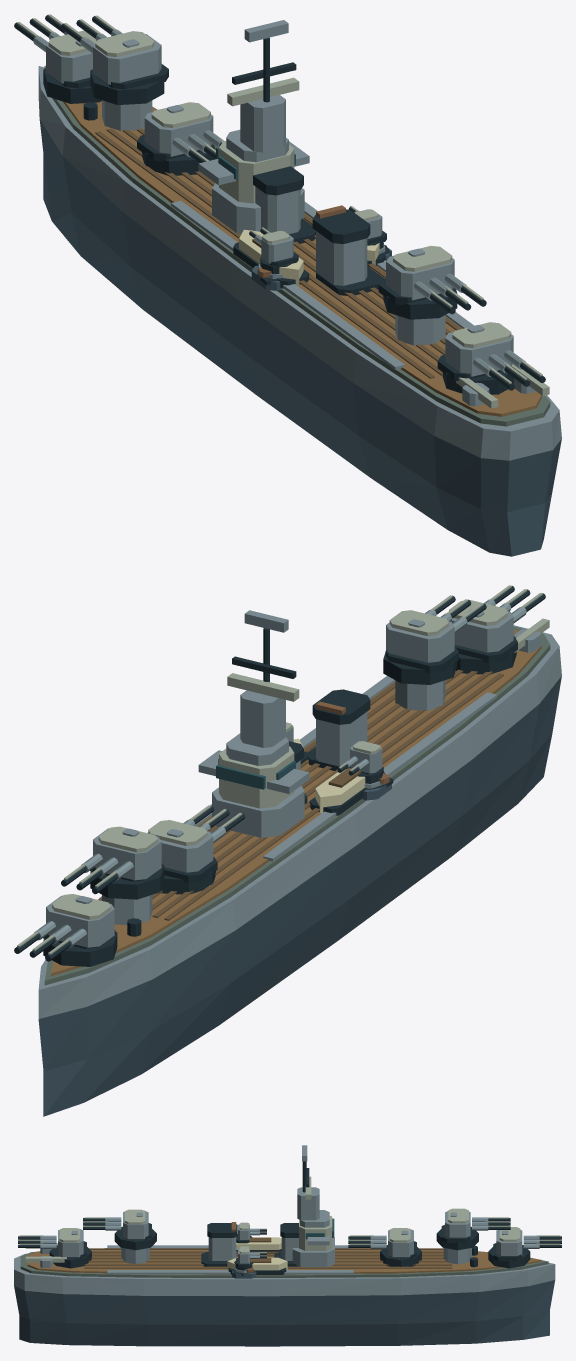
Rendered from historic-brooklyn.glb.
3 renders of one model, top to bottom at view 1: azimuth 30°, elevation 25°; view 2: azimuth 150°, elevation 25°; view 3: azimuth 270°, elevation 25°, orthographic. The views are drawn at different scales.
Visible parts, largest first — view 1: historic-brooklyn-historic-brooklyn-geometry, historic-brooklyn-part_bridge.010-geometry, historic-brooklyn-turret_main_1.006-geometry, historic-brooklyn-turret_main_3.003-geometry, historic-brooklyn-turret_main_4.001-geometry, historic-brooklyn-turret_main_2.006-geometry, historic-brooklyn-historic_funnel_1.003-geometry, historic-brooklyn-turret_main_0.007-geometry, historic-brooklyn-historic_funnel_0.011-geometry, historic-brooklyn-turret_aa_aa-port.012-geometry, historic-brooklyn-turret_aa_aa-starboard.010-geometry; view 2: historic-brooklyn-historic-brooklyn-geometry, historic-brooklyn-part_bridge.010-geometry, historic-brooklyn-turret_main_3.003-geometry, historic-brooklyn-turret_main_1.006-geometry, historic-brooklyn-turret_main_0.007-geometry, historic-brooklyn-turret_main_2.006-geometry, historic-brooklyn-turret_main_4.001-geometry, historic-brooklyn-historic_funnel_1.003-geometry, historic-brooklyn-turret_aa_aa-port.012-geometry; view 3: historic-brooklyn-historic-brooklyn-geometry, historic-brooklyn-part_bridge.010-geometry, historic-brooklyn-turret_main_1.006-geometry, historic-brooklyn-turret_main_3.003-geometry, historic-brooklyn-turret_main_0.007-geometry, historic-brooklyn-turret_main_2.006-geometry, historic-brooklyn-turret_main_4.001-geometry, historic-brooklyn-historic_funnel_1.003-geometry, historic-brooklyn-historic_funnel_0.011-geometry, historic-brooklyn-turret_aa_aa-starboard.010-geometry, historic-brooklyn-turret_aa_aa-port.012-geometry.
Part boxes in pixels (x1,y1,x2,y2): historic-brooklyn-historic-brooklyn-geometry: (38, 65, 561, 556); historic-brooklyn-part_bridge.010-geometry: (198, 20, 309, 233); historic-brooklyn-turret_main_1.006-geometry: (61, 15, 168, 104); historic-brooklyn-turret_main_3.003-geometry: (378, 246, 486, 319); historic-brooklyn-turret_main_4.001-geometry: (437, 322, 545, 394); historic-brooklyn-turret_main_2.006-geometry: (137, 102, 224, 175); historic-brooklyn-historic_funnel_1.003-geometry: (312, 205, 383, 295); historic-brooklyn-turret_main_0.007-geometry: (14, 14, 101, 103); historic-brooklyn-historic_funnel_0.011-geometry: (253, 166, 315, 243); historic-brooklyn-turret_aa_aa-port.012-geometry: (249, 227, 298, 274); historic-brooklyn-turret_aa_aa-starboard.010-geometry: (348, 206, 386, 248); historic-brooklyn-historic-brooklyn-geometry: (38, 618, 561, 1116); historic-brooklyn-part_bridge.010-geometry: (198, 610, 309, 837); historic-brooklyn-turret_main_3.003-geometry: (383, 595, 486, 684); historic-brooklyn-turret_main_1.006-geometry: (61, 826, 164, 899); historic-brooklyn-turret_main_0.007-geometry: (14, 894, 117, 966); historic-brooklyn-turret_main_2.006-geometry: (147, 805, 245, 894); historic-brooklyn-turret_main_4.001-geometry: (449, 585, 545, 674); historic-brooklyn-historic_funnel_1.003-geometry: (306, 689, 370, 770); historic-brooklyn-turret_aa_aa-port.012-geometry: (337, 741, 383, 783); historic-brooklyn-historic-brooklyn-geometry: (14, 1237, 555, 1346); historic-brooklyn-part_bridge.010-geometry: (292, 1145, 334, 1267); historic-brooklyn-turret_main_1.006-geometry: (436, 1208, 510, 1250); historic-brooklyn-turret_main_3.003-geometry: (83, 1209, 156, 1250); historic-brooklyn-turret_main_0.007-geometry: (488, 1227, 561, 1268); historic-brooklyn-turret_main_2.006-geometry: (348, 1228, 421, 1266); historic-brooklyn-turret_main_4.001-geometry: (18, 1228, 91, 1268); historic-brooklyn-historic_funnel_1.003-geometry: (201, 1222, 237, 1266); historic-brooklyn-historic_funnel_0.011-geometry: (274, 1223, 298, 1266); historic-brooklyn-turret_aa_aa-starboard.010-geometry: (234, 1246, 266, 1270); historic-brooklyn-turret_aa_aa-port.012-geometry: (236, 1222, 266, 1243).
Bounding box in the file's own units: 0.6478 × 1.63 × 4.37.
